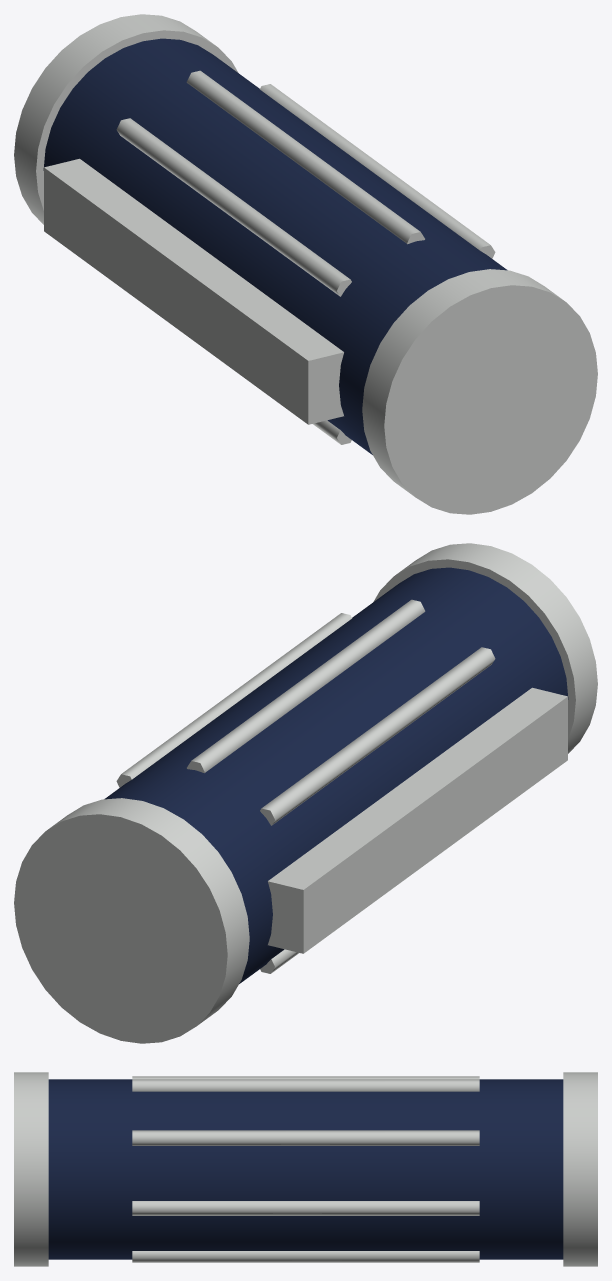
Rendered from s60_starter.obj.
3 renders of one model, top to bottom at view 1: azimuth 30°, elevation 25°; view 2: azimuth 150°, elevation 25°; view 3: azimuth 270°, elevation 25°, orthographic. The views are drawn at different scales.
Parts seen in each view (by area): view 1: s60_starter; view 2: s60_starter; view 3: s60_starter.
Part boxes in pixels (<box>): s60_starter: <box>14,14,597,514</box>; s60_starter: <box>14,543,597,1043</box>; s60_starter: <box>14,1072,597,1266</box>.
Size of the model in its own units: 0.225 by 0.2025 by 0.6058.
